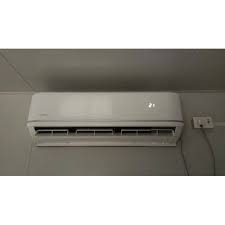ac: (27, 88, 187, 148)
